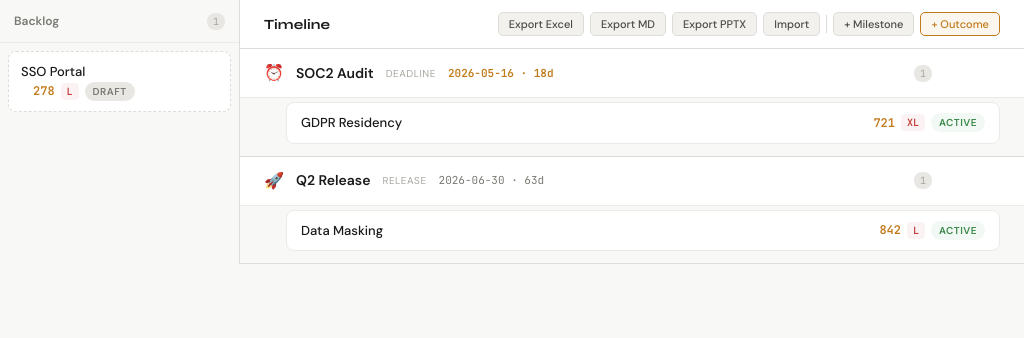
Test case: TimelineView › shows new milestone form when clicking + Milestone
Note: + Milestone is the first button in .header-buttons (not btn-primary)
Click the button "+ Milestone": [874, 24] box [833,12,914,36]
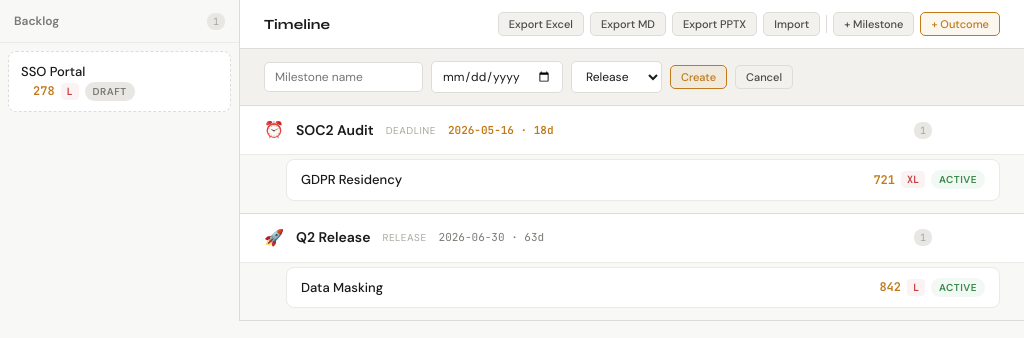
Check: the element with class "new-milestone-form" is shown, box [240,49,1023,106]
